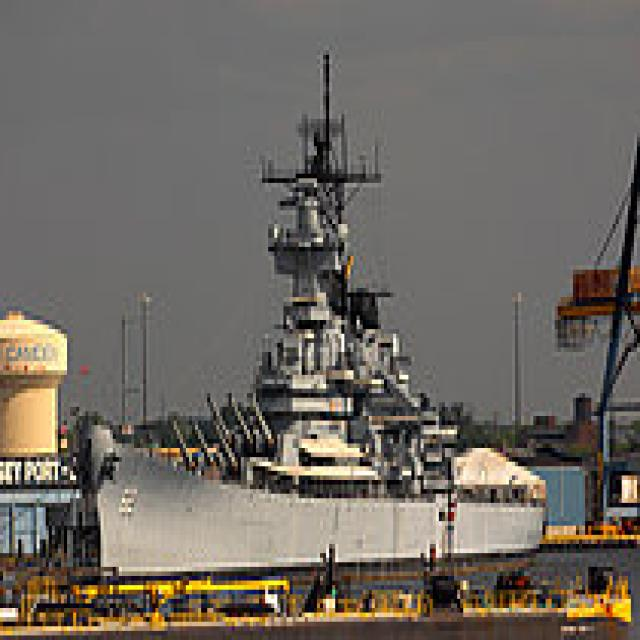Warship: (3, 46, 546, 576)
